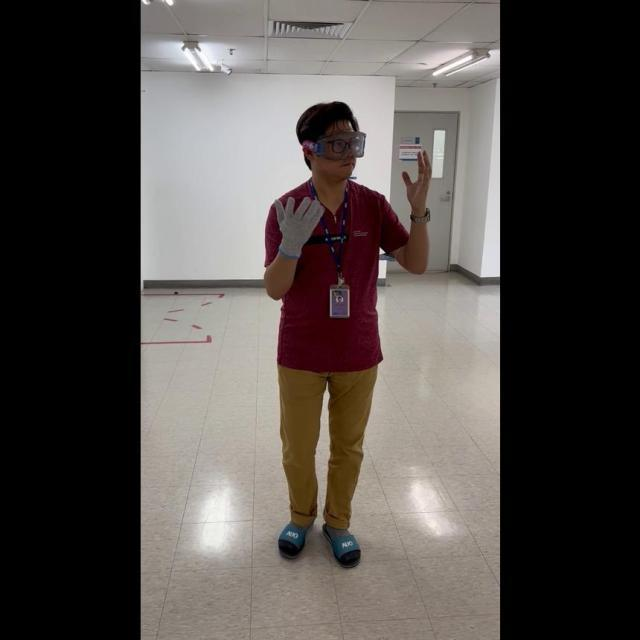bare_hand: (400, 145, 431, 219)
gloved_hand: (271, 188, 323, 260)
